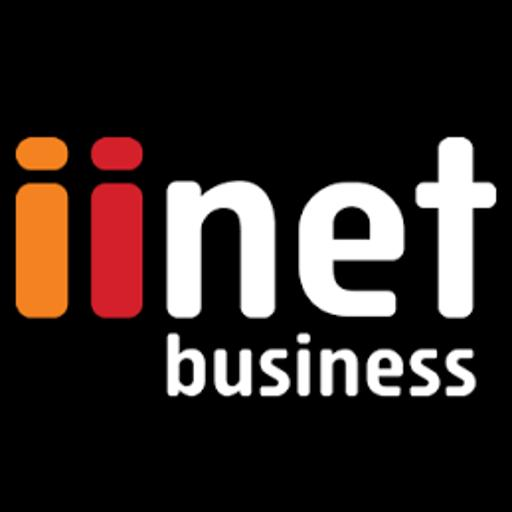iiNet Limited: (0, 64, 512, 447)
